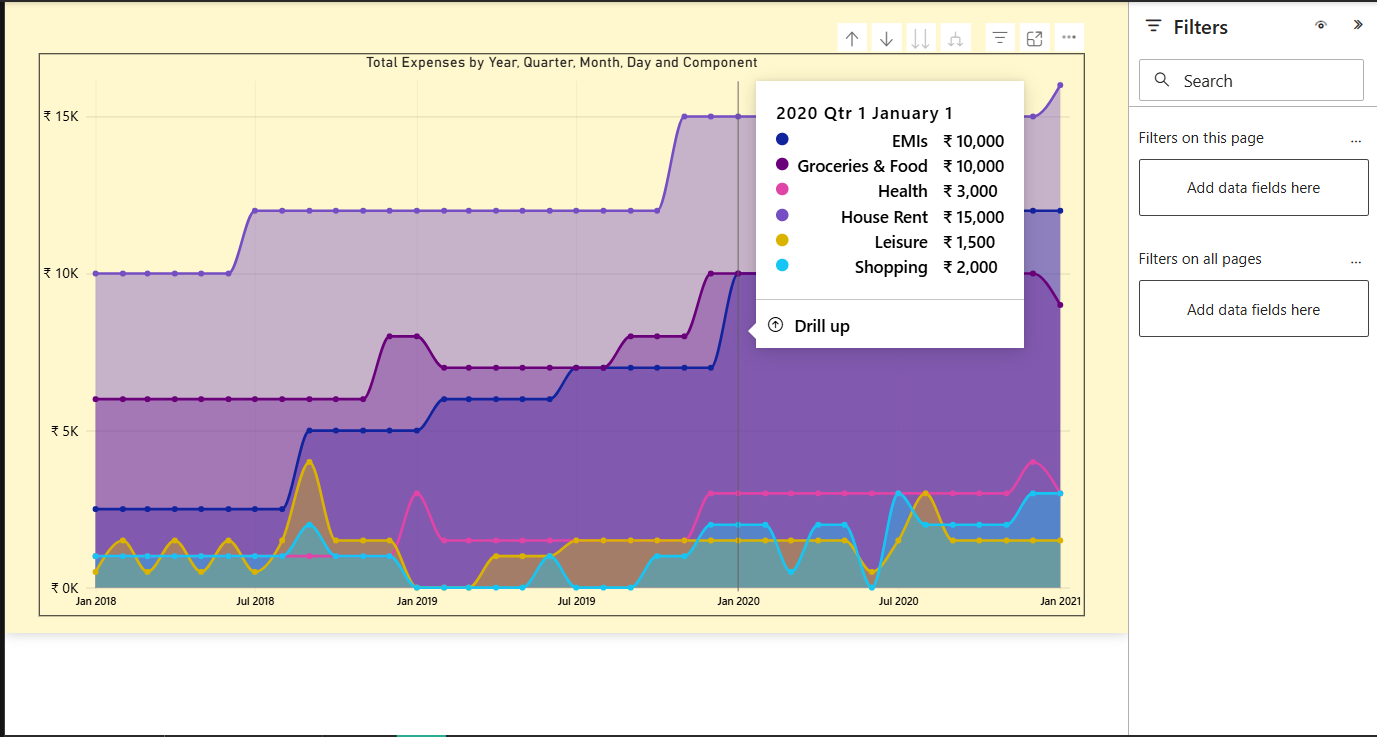

The dashboard page shown, as its layout file describes it:
{"tool":"powerbi","page":{"name":"TT1","canvas":[1280,720],"ordinal":1},"visuals":[{"type":"lineChart","fields":{"Series":["FinData.Component"],"Category":["FinData.Date.Variation.Date Hierarchy.Year","FinData.Date.Variation.Date Hierarchy.Quarter","FinData.Date.Variation.Date Hierarchy.Month","FinData.Date.Variation.Date Hierarchy.Day"],"Y":["key Measure.Total Expenses"]},"box":[38.5,58.4,1193.1,642.9],"z":0}]}

Visuals, with their boxes on the page's 1280x720 design canvas (x1, y1, x2, y2). These are canvas units, not pixel positions in the 1377x737 screenshot, which may show the page scaled, cropped or inside an application window:
lineChart - FinData.Component x FinData.Date.Variation.Date Hierarchy.Year: locate(38, 58, 1232, 701)
